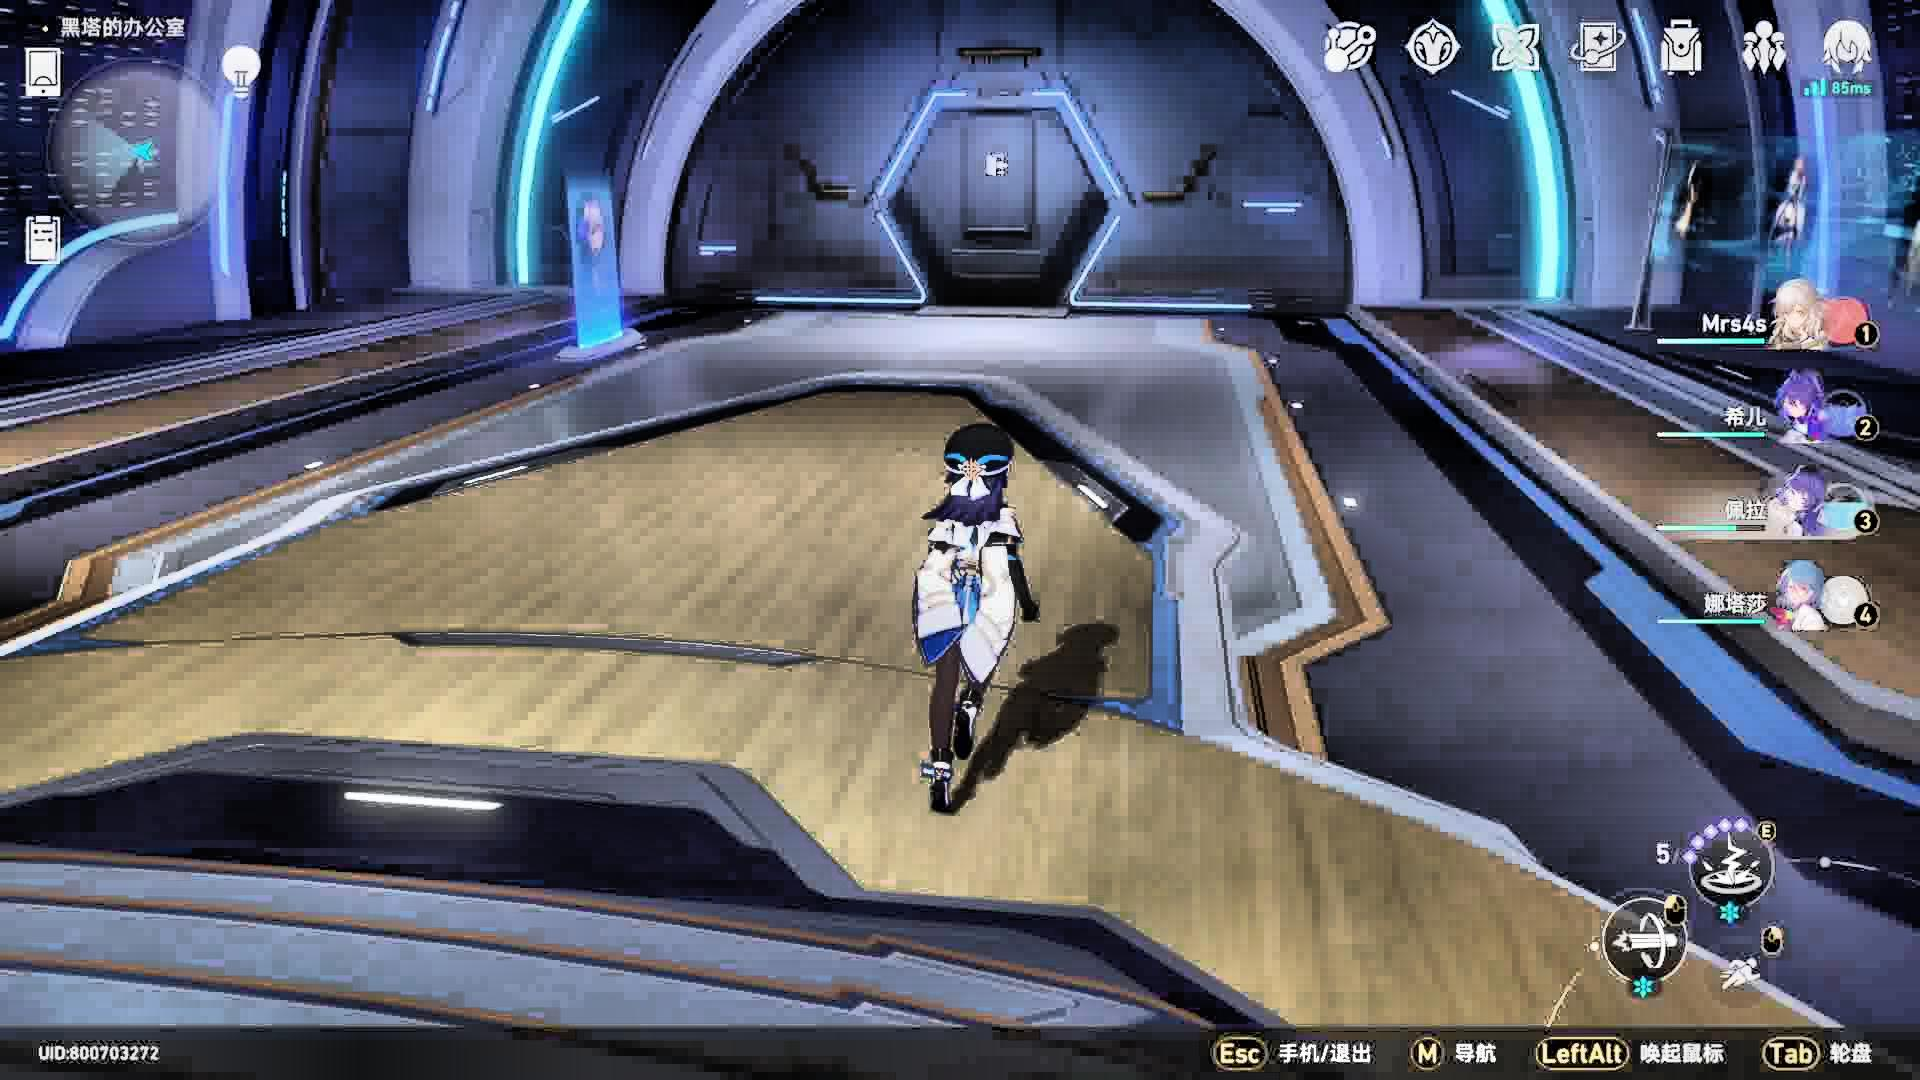Self: (910, 427, 1040, 808)
